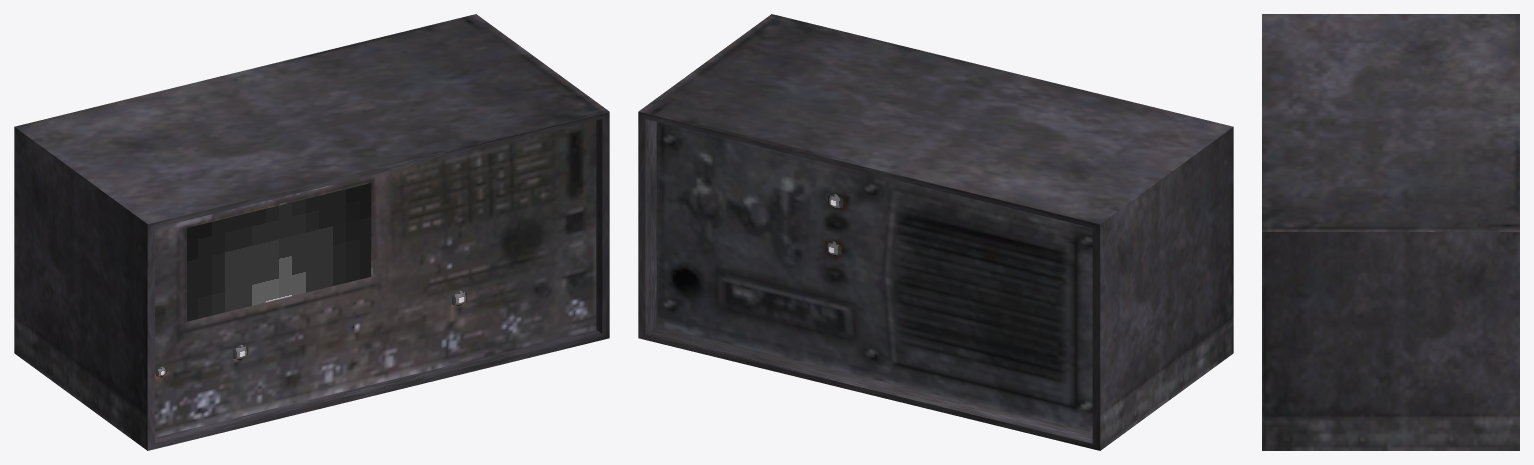
The model's file is Radio03.glb.
3 views of the same model, side by side, from view 1: azimuth 30°, elevation 25°; view 2: azimuth 150°, elevation 25°; view 3: azimuth 270°, elevation 25° (orthographic). The views are drawn at different scales.
Visible parts, largest first — view 1: _Radio03; view 2: _Radio03; view 3: _Radio03.
Boxes of the visible parts, bbox=[...] form: _Radio03: bbox=[14, 14, 609, 450]; _Radio03: bbox=[638, 14, 1233, 450]; _Radio03: bbox=[1262, 14, 1519, 450].
Size of the model in its own units: 0.735 by 0.3447 by 0.3675.
Materials: 3 (3 with a texture image).
